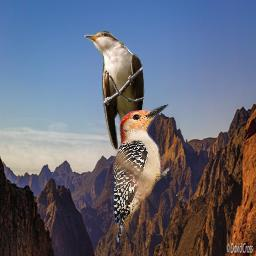Cuckoo: (84, 31, 145, 195)
Woodpecker: (113, 103, 169, 243)
